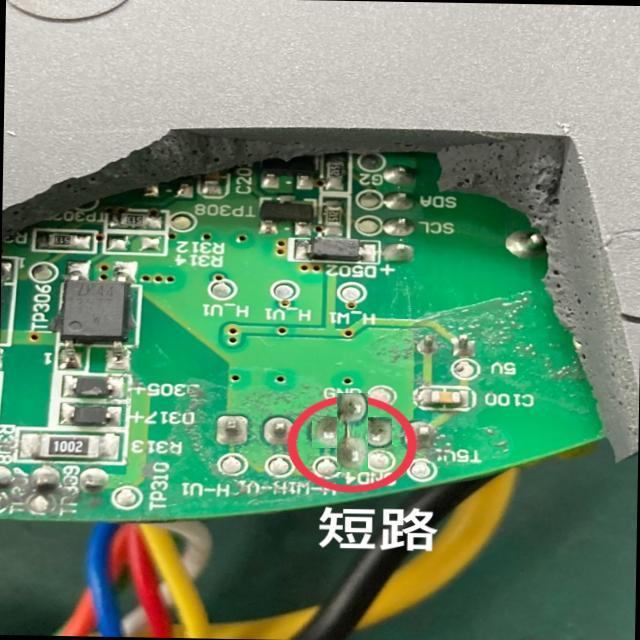damged: (325, 405, 380, 460)
